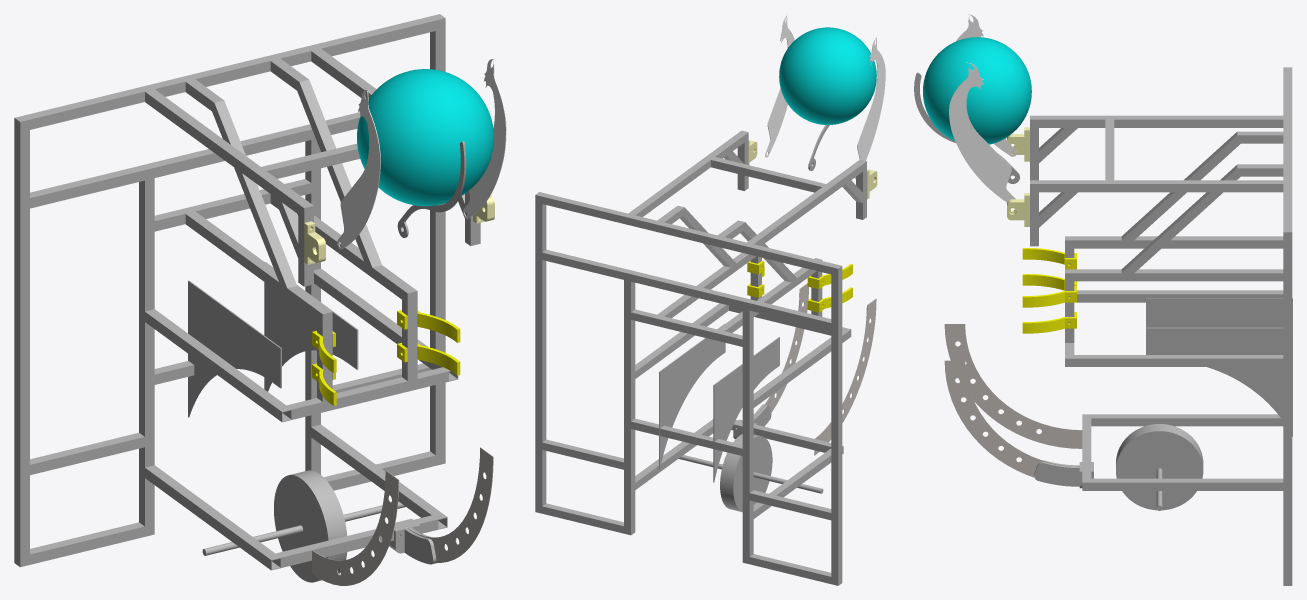
Rendered from robot2.glb.
The picture shows the model from 3 angles, left to right: view 1: azimuth 30°, elevation 25°; view 2: azimuth 150°, elevation 25°; view 3: azimuth 270°, elevation 25°; orthographic projection. The views are drawn at different scales.
Visible parts, largest first — view 1: robot2-linkage-3d-1, Bola-1, track-bearing-plate-1, celurit-cover-2, track-bearing-plate-3, celurit-cover-1, mount-track-1, celurit-1, Pagar-1, Pagar-2, mount-celurit-4; view 2: robot2-linkage-3d-1, Bola-1, track-bearing-plate-1, celurit-cover-2, celurit-cover-1, track-bearing-plate-3; view 3: robot2-linkage-3d-1, Bola-1, track-bearing-plate-1, celurit-cover-1, track-bearing-plate-3, mount-track-1, Pagar-1, Pagar-2, Pagar-6, celurit-1, mount-celurit-1, celurit-cover-2 (+1 smaller).
Boxes of the visible parts, x1,y1,x2,y2 form: robot2-linkage-3d-1: (14,14,480,582); Bola-1: (357,69,493,206); track-bearing-plate-1: (312,470,399,585); celurit-cover-2: (337,89,380,249); track-bearing-plate-3: (406,447,493,562); celurit-cover-1: (463,59,506,218); mount-track-1: (389,518,436,564); celurit-1: (397,141,466,237); Pagar-1: (397,342,460,375); Pagar-2: (397,310,460,342); mount-celurit-4: (304,221,325,264); robot2-linkage-3d-1: (535,130,866,585); Bola-1: (779,27,876,124); track-bearing-plate-1: (814,298,876,455); celurit-cover-2: (855,36,885,178); celurit-cover-1: (765,14,794,157); track-bearing-plate-3: (753,283,808,417); robot2-linkage-3d-1: (1030,67,1292,585); Bola-1: (923,37,1031,144); track-bearing-plate-1: (944,324,1082,448); celurit-cover-1: (949,62,1015,202); track-bearing-plate-3: (944,360,1081,477); mount-track-1: (1034,460,1093,488); Pagar-1: (1022,312,1076,333); Pagar-2: (1022,286,1076,307); Pagar-6: (1022,248,1076,269); celurit-1: (914,72,1019,183); mount-celurit-1: (1007,193,1029,226); celurit-cover-2: (956,14,1016,156).
Size of the model in its own units: 0.68 by 0.9004 by 0.66.
